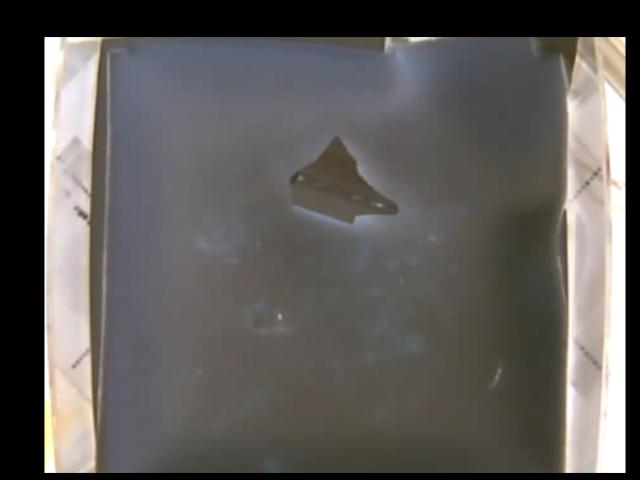China: (286, 136, 399, 226)
